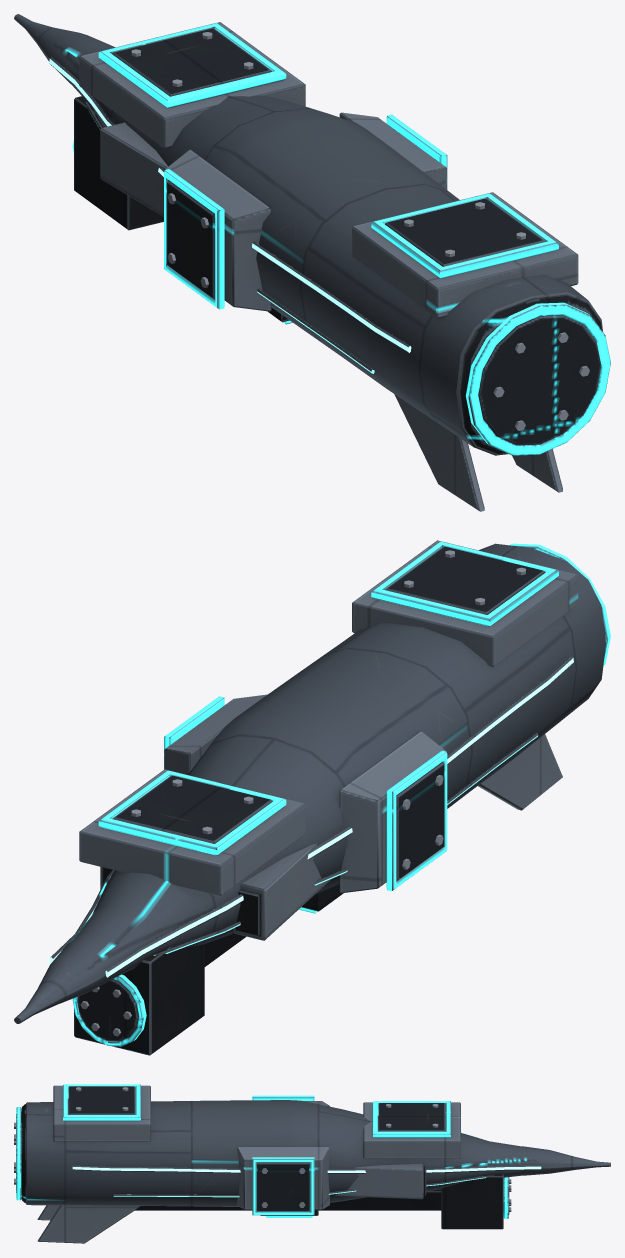
Rendered from casco_caza_t3.fbx.
The picture shows the model from 3 angles, top to bottom: view 1: azimuth 30°, elevation 25°; view 2: azimuth 150°, elevation 25°; view 3: azimuth 270°, elevation 25°; orthographic projection. The views are drawn at different scales.
Visible parts, largest first — view 1: casco_caza_t3, casco_caza_t3_neon; view 2: casco_caza_t3, casco_caza_t3_neon; view 3: casco_caza_t3, casco_caza_t3_neon, casco_caza_t3_neon2.
Part boxes in pixels (x1=…): casco_caza_t3: x1=14, y1=14, x2=610, y2=511; casco_caza_t3_neon: x1=49, y1=59, x2=411, y2=352; casco_caza_t3: x1=14, y1=540, x2=610, y2=1055; casco_caza_t3_neon: x1=49, y1=658, x2=573, y2=977; casco_caza_t3: x1=14, y1=1084, x2=610, y2=1243; casco_caza_t3_neon: x1=72, y1=1166, x2=541, y2=1172; casco_caza_t3_neon2: x1=113, y1=1177, x2=486, y2=1197.
Size of the model in its own units: 4 by 3.79 by 15.31.
